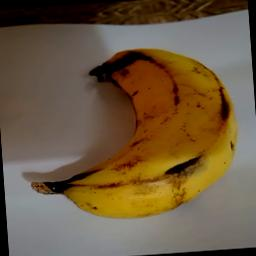Banana Unripe: (12, 42, 245, 224)
